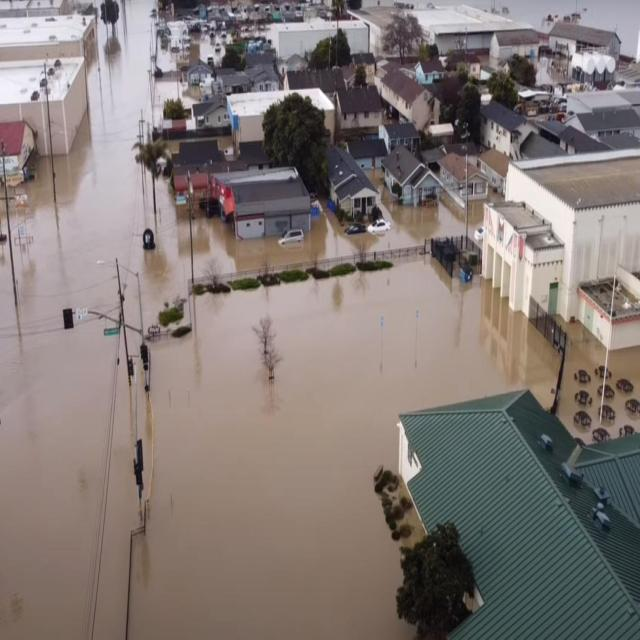flood: (128, 254, 560, 638), (0, 1, 190, 639), (192, 198, 465, 278), (152, 21, 225, 103), (578, 0, 640, 55), (497, 0, 577, 27), (166, 19, 190, 50), (431, 0, 492, 8)
house: (381, 385, 640, 640), (493, 119, 640, 361), (192, 156, 318, 244), (0, 56, 87, 158), (228, 86, 335, 159), (273, 16, 364, 74), (550, 16, 618, 87), (327, 139, 378, 225), (0, 11, 96, 54), (384, 145, 438, 215), (381, 64, 430, 133), (439, 151, 489, 214), (338, 81, 384, 143), (0, 122, 35, 190), (481, 98, 515, 155), (491, 28, 540, 67), (431, 19, 487, 53), (556, 122, 609, 152), (190, 98, 228, 132), (188, 58, 214, 88), (414, 55, 432, 83)
